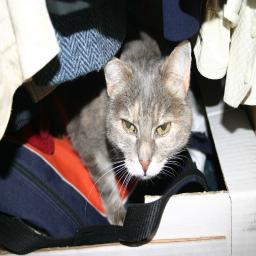catnose: (138, 159, 152, 173)
